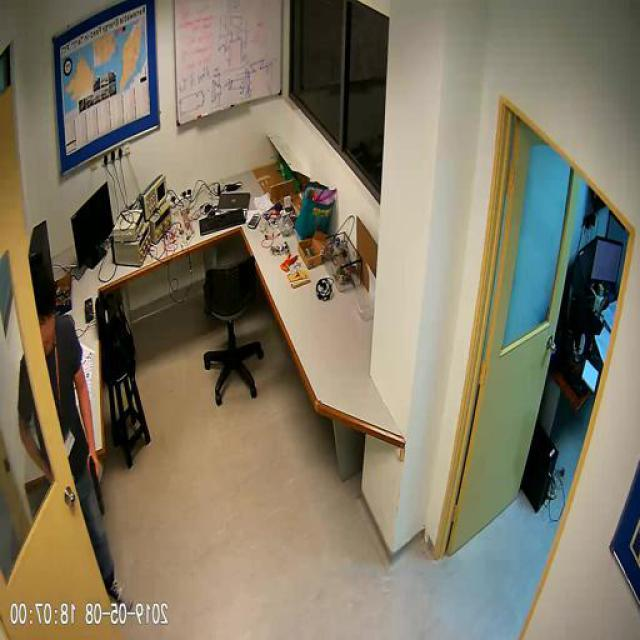Gun: (88, 452, 106, 512)
